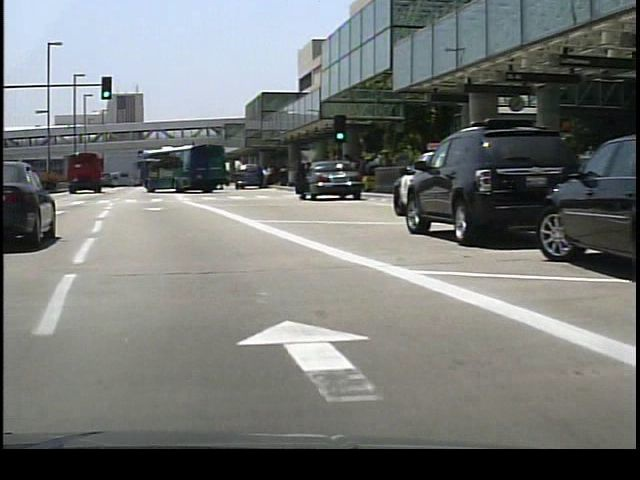person: (254, 165, 265, 189)
